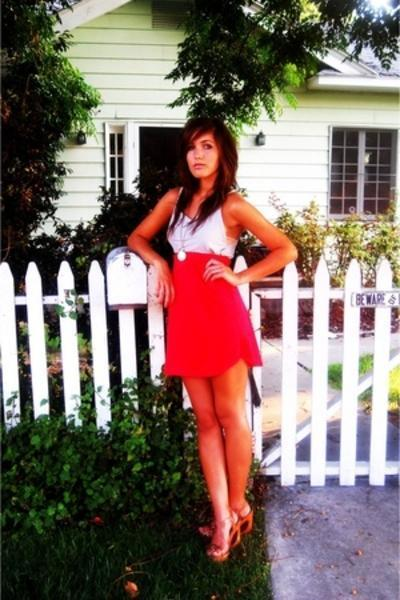shirt: (167, 204, 246, 281)
shoe: (213, 516, 234, 559)
skirt: (159, 255, 261, 385)
